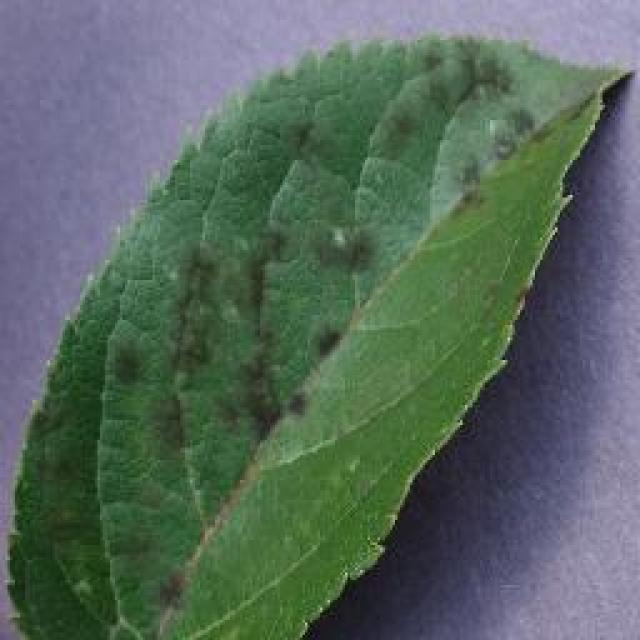apple scab disease: (3, 30, 635, 638)
